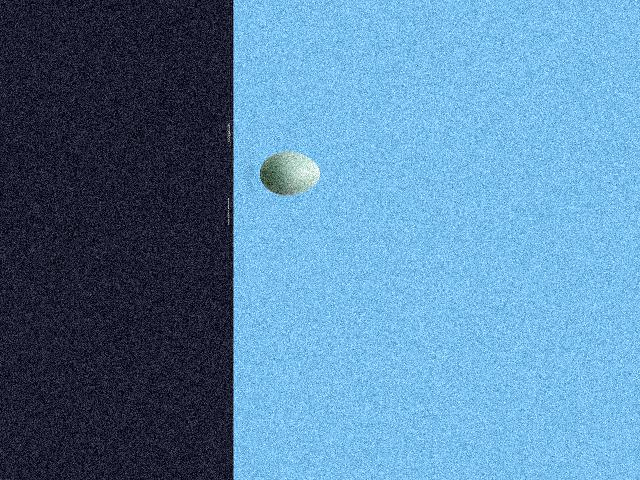egg: (260, 152, 320, 196)
